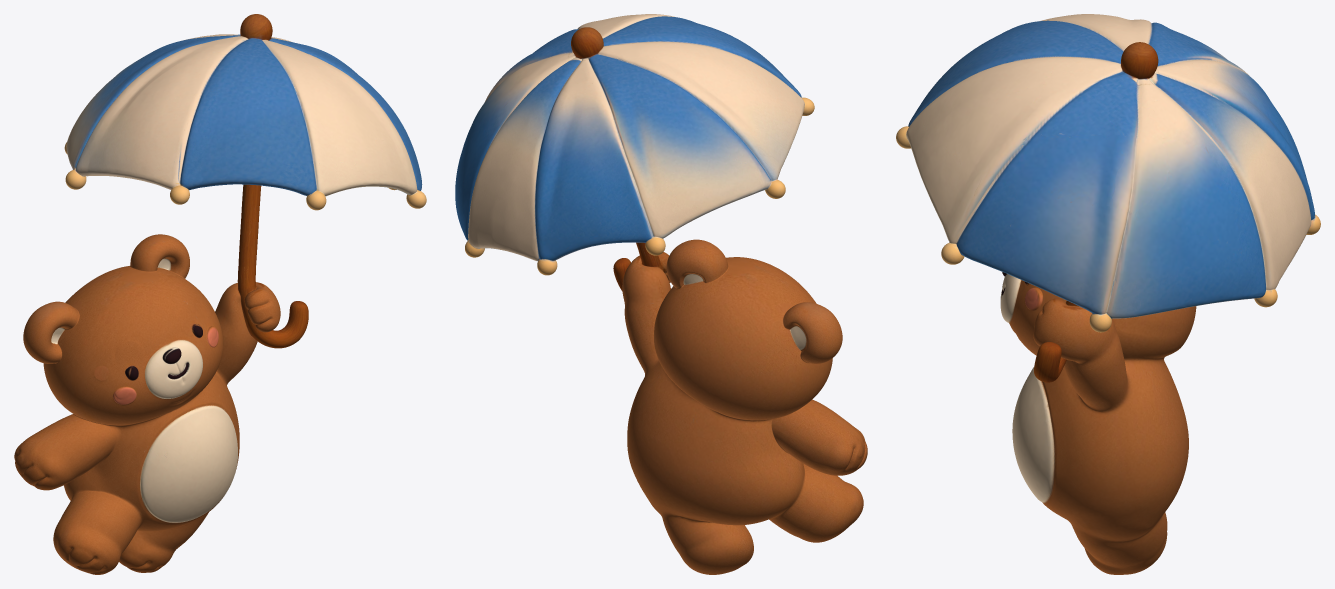
File: bear.glb
The picture shows the model from 3 angles, left to right: view 1: azimuth 30°, elevation 25°; view 2: azimuth 150°, elevation 25°; view 3: azimuth 270°, elevation 25°; orthographic projection. The views are drawn at different scales.
Bounding box in the file's own units: 1.48 × 1.9 × 1.23.
Materials: 1 (1 with a texture image).
